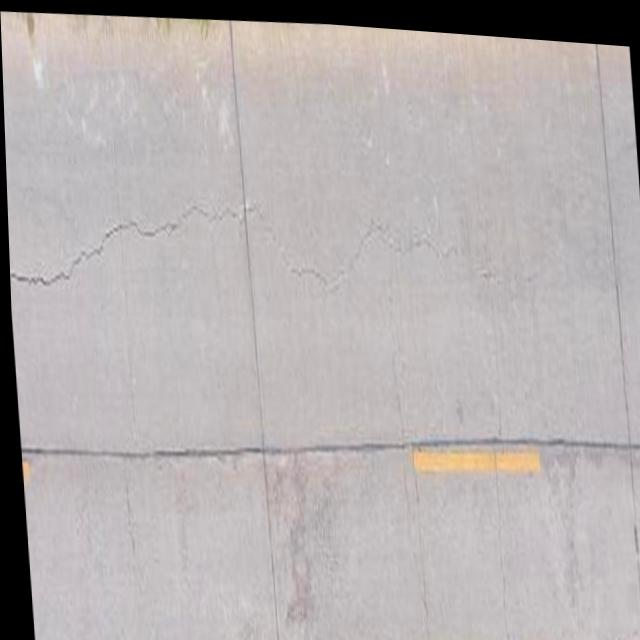Crack: (6, 190, 176, 310), (558, 591, 640, 640)
